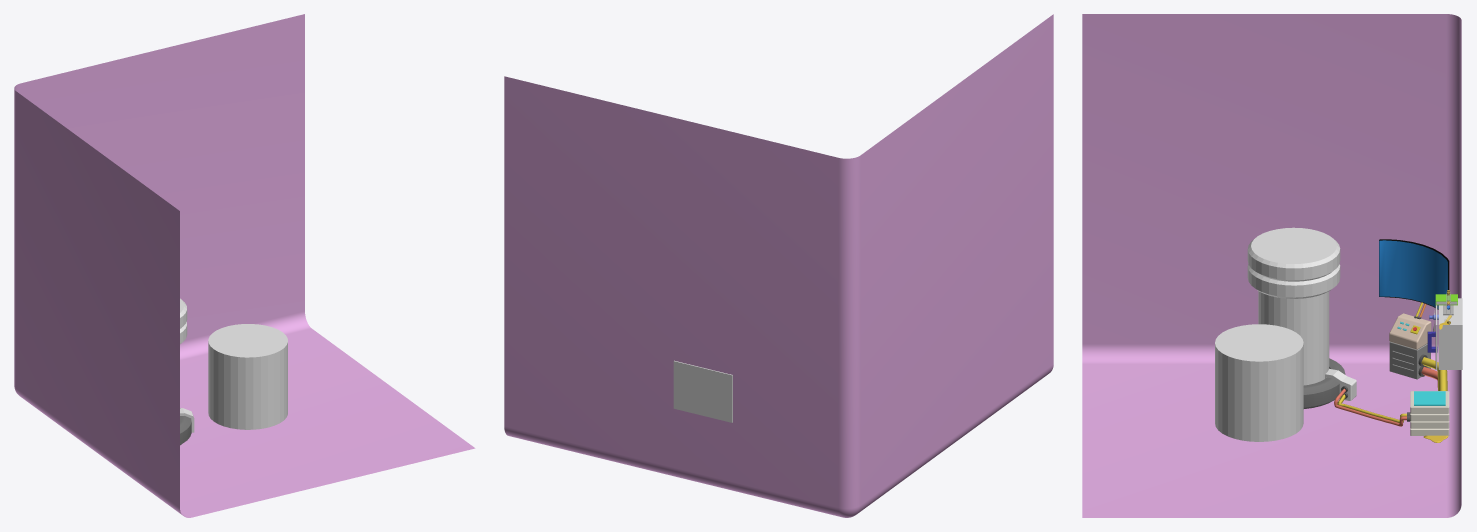
Rendered from seconsEs.glb.
The picture shows the model from 3 angles, left to right: view 1: azimuth 30°, elevation 25°; view 2: azimuth 150°, elevation 25°; view 3: azimuth 270°, elevation 25°; orthographic projection. The views are drawn at different scales.
Parts seen in each view (by area): view 1: Cube.005, Cylinder.009, base; view 2: Cube.005, Cube.007; view 3: Cube.005, Cylinder.009, base, Cylinder.001, Cylinder, Cube.007, control, Cube.006, Cube.003, Cube.004.
Boxes of the visible parts, box(x1,y1,x2,y2) form: Cube.005: box(14, 14, 475, 517); Cylinder.009: box(208, 324, 287, 429); base: box(180, 298, 194, 445); Cube.005: box(504, 14, 1053, 517); Cube.007: box(673, 360, 732, 422); Cube.005: box(1082, 14, 1461, 517); Cylinder.009: box(1215, 324, 1303, 441); base: box(1247, 227, 1356, 408); Cylinder.001: box(1379, 239, 1449, 309); Cylinder: box(1258, 291, 1329, 385); Cube.007: box(1427, 298, 1462, 369); control: box(1389, 313, 1431, 349); Cube.006: box(1389, 341, 1430, 379); Cube.003: box(1410, 391, 1449, 413); Cube.004: box(1414, 391, 1445, 405).
Size of the model in its own units: 5.54 by 5.57 by 5.55.
35 materials, 1 textured.
